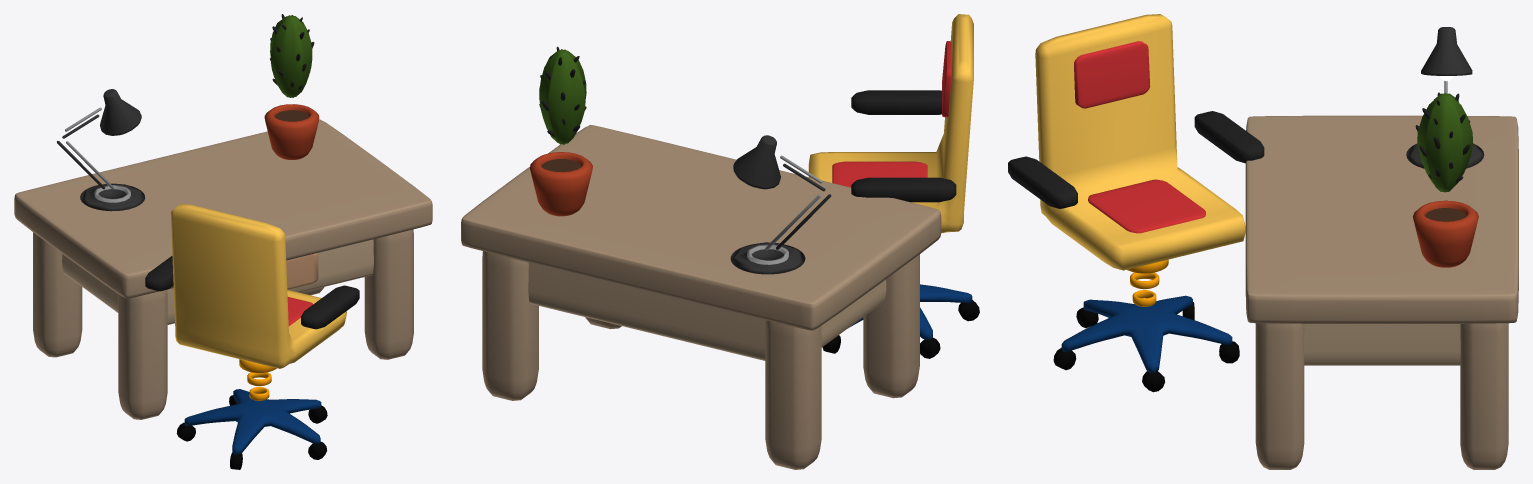
Rendered from d-moebel-komp-3.glb.
3 views of the same model, side by side, from view 1: azimuth 30°, elevation 25°; view 2: azimuth 150°, elevation 25°; view 3: azimuth 270°, elevation 25° (orthographic). The views are drawn at different scales.
Visible parts, largest first — view 1: Wood_Table; view 2: Wood_Table; view 3: Wood_Table.
Boxes of the visible parts, x1,y1,x2,y2 form: Wood_Table: (14,14,432,469); Wood_Table: (461,14,979,469); Wood_Table: (1008,14,1518,469).
Size of the model in its own units: 1.37 by 1.23 by 1.63.
2 materials, 1 textured.
